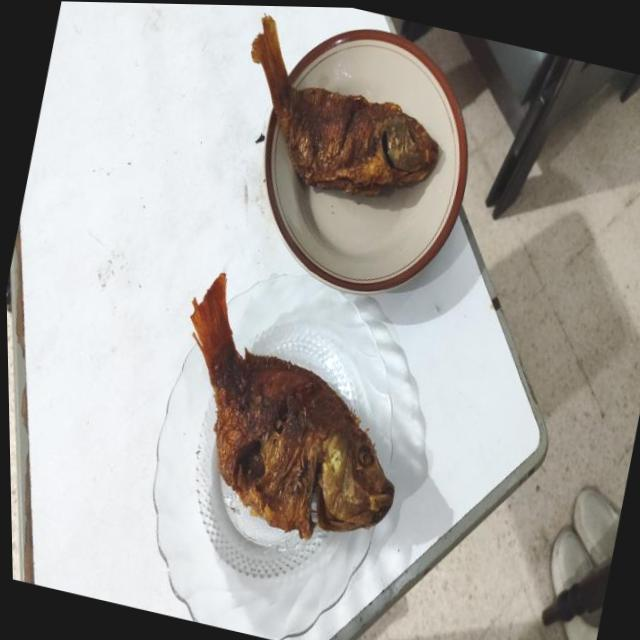ikan_mujair: (190, 272, 394, 538), (251, 15, 438, 194)
